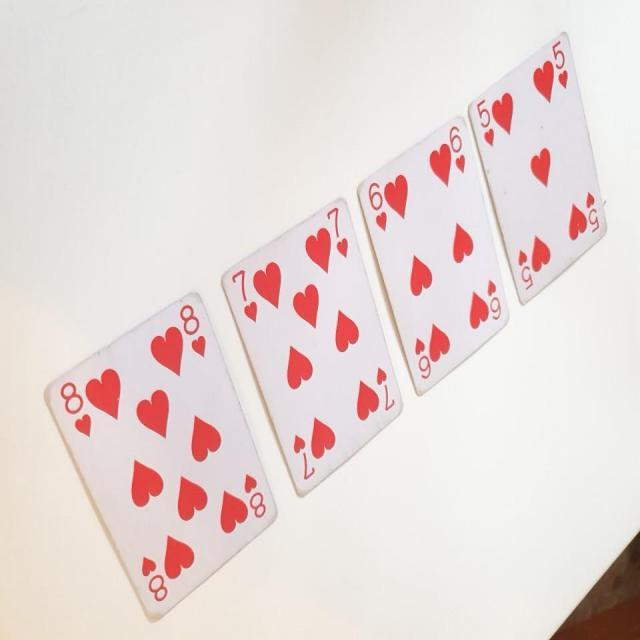5 of hearts: (464, 33, 617, 312)
6 of hearts: (354, 114, 517, 398)
7 of hearts: (212, 192, 406, 502)
8 of hearts: (38, 290, 292, 620)
